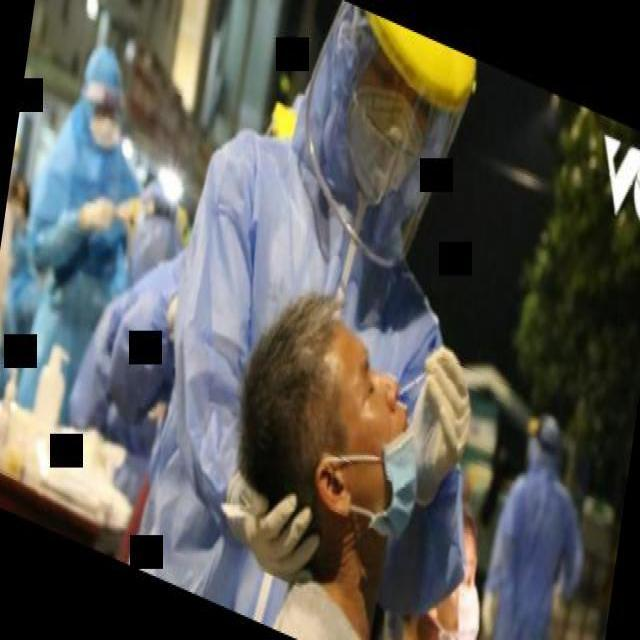hairnet: (369, 370, 423, 539)
